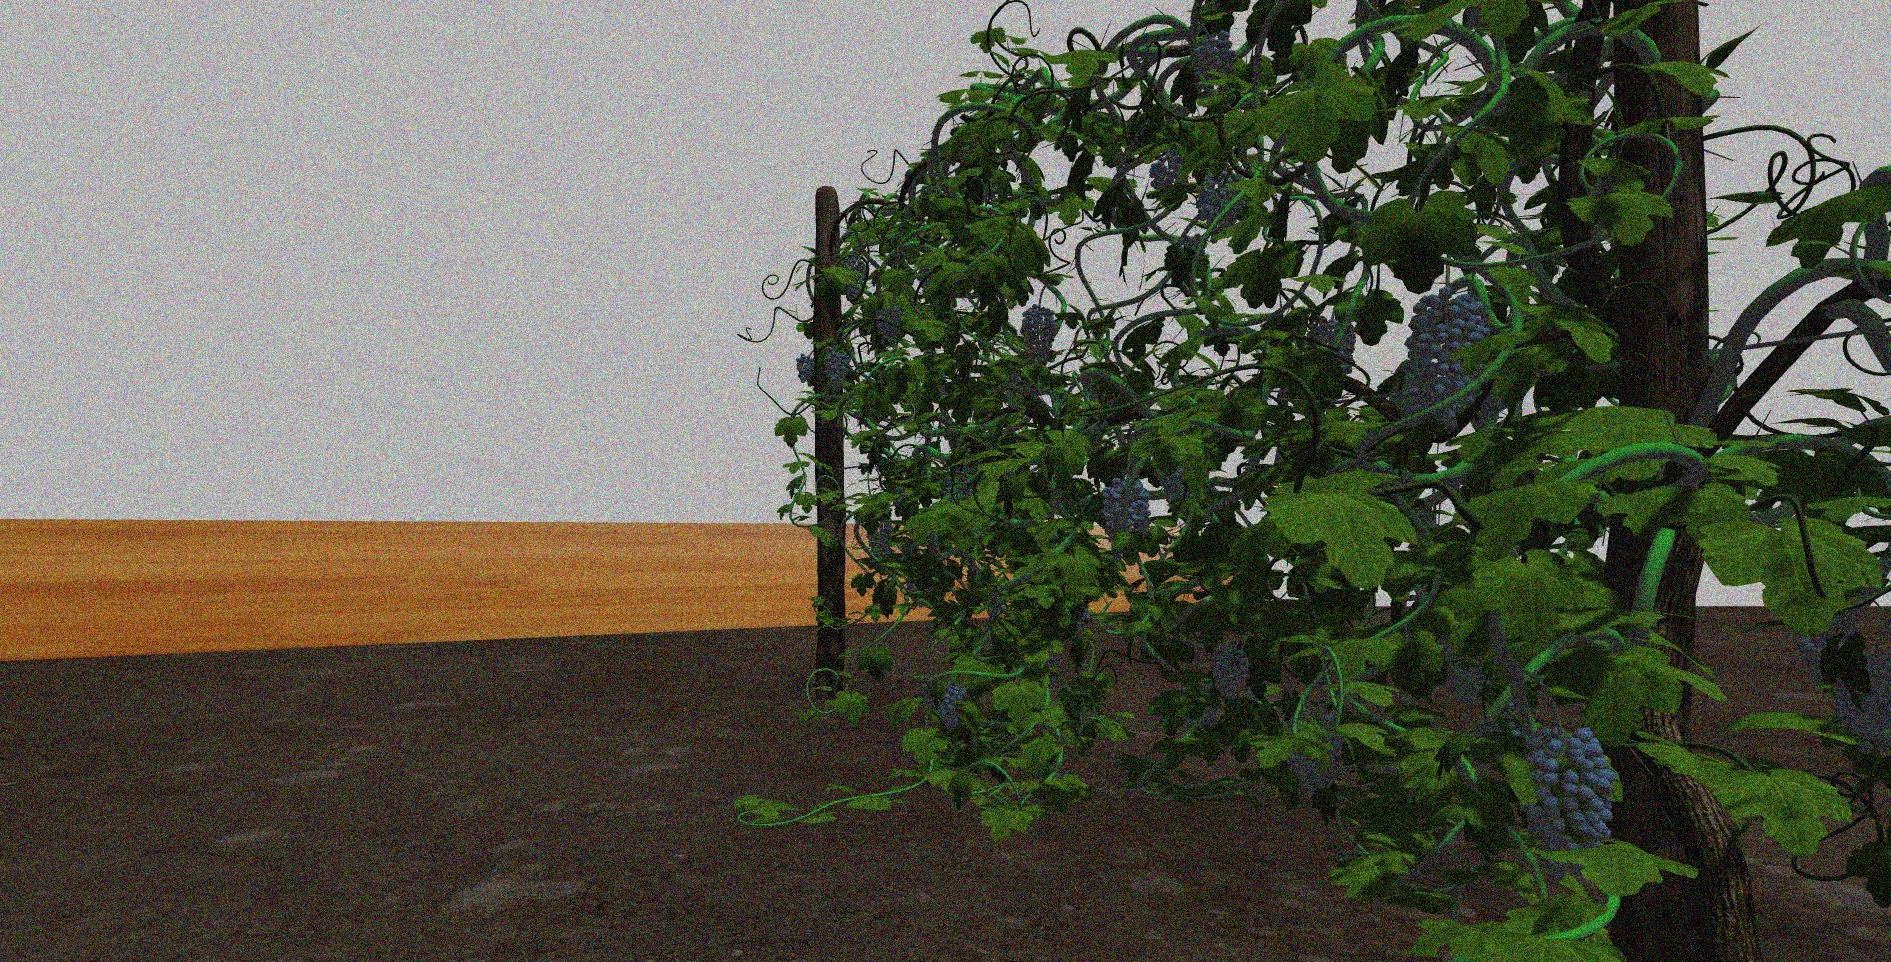grape: (1519, 728, 1621, 853), (1405, 296, 1491, 428), (1835, 660, 1887, 755), (1100, 480, 1155, 545), (1196, 173, 1243, 232), (1209, 645, 1251, 698), (1022, 306, 1057, 366), (1193, 29, 1239, 75), (936, 686, 972, 733), (873, 303, 904, 344), (1150, 153, 1182, 189), (824, 348, 851, 389), (868, 521, 894, 556), (793, 353, 818, 382)
